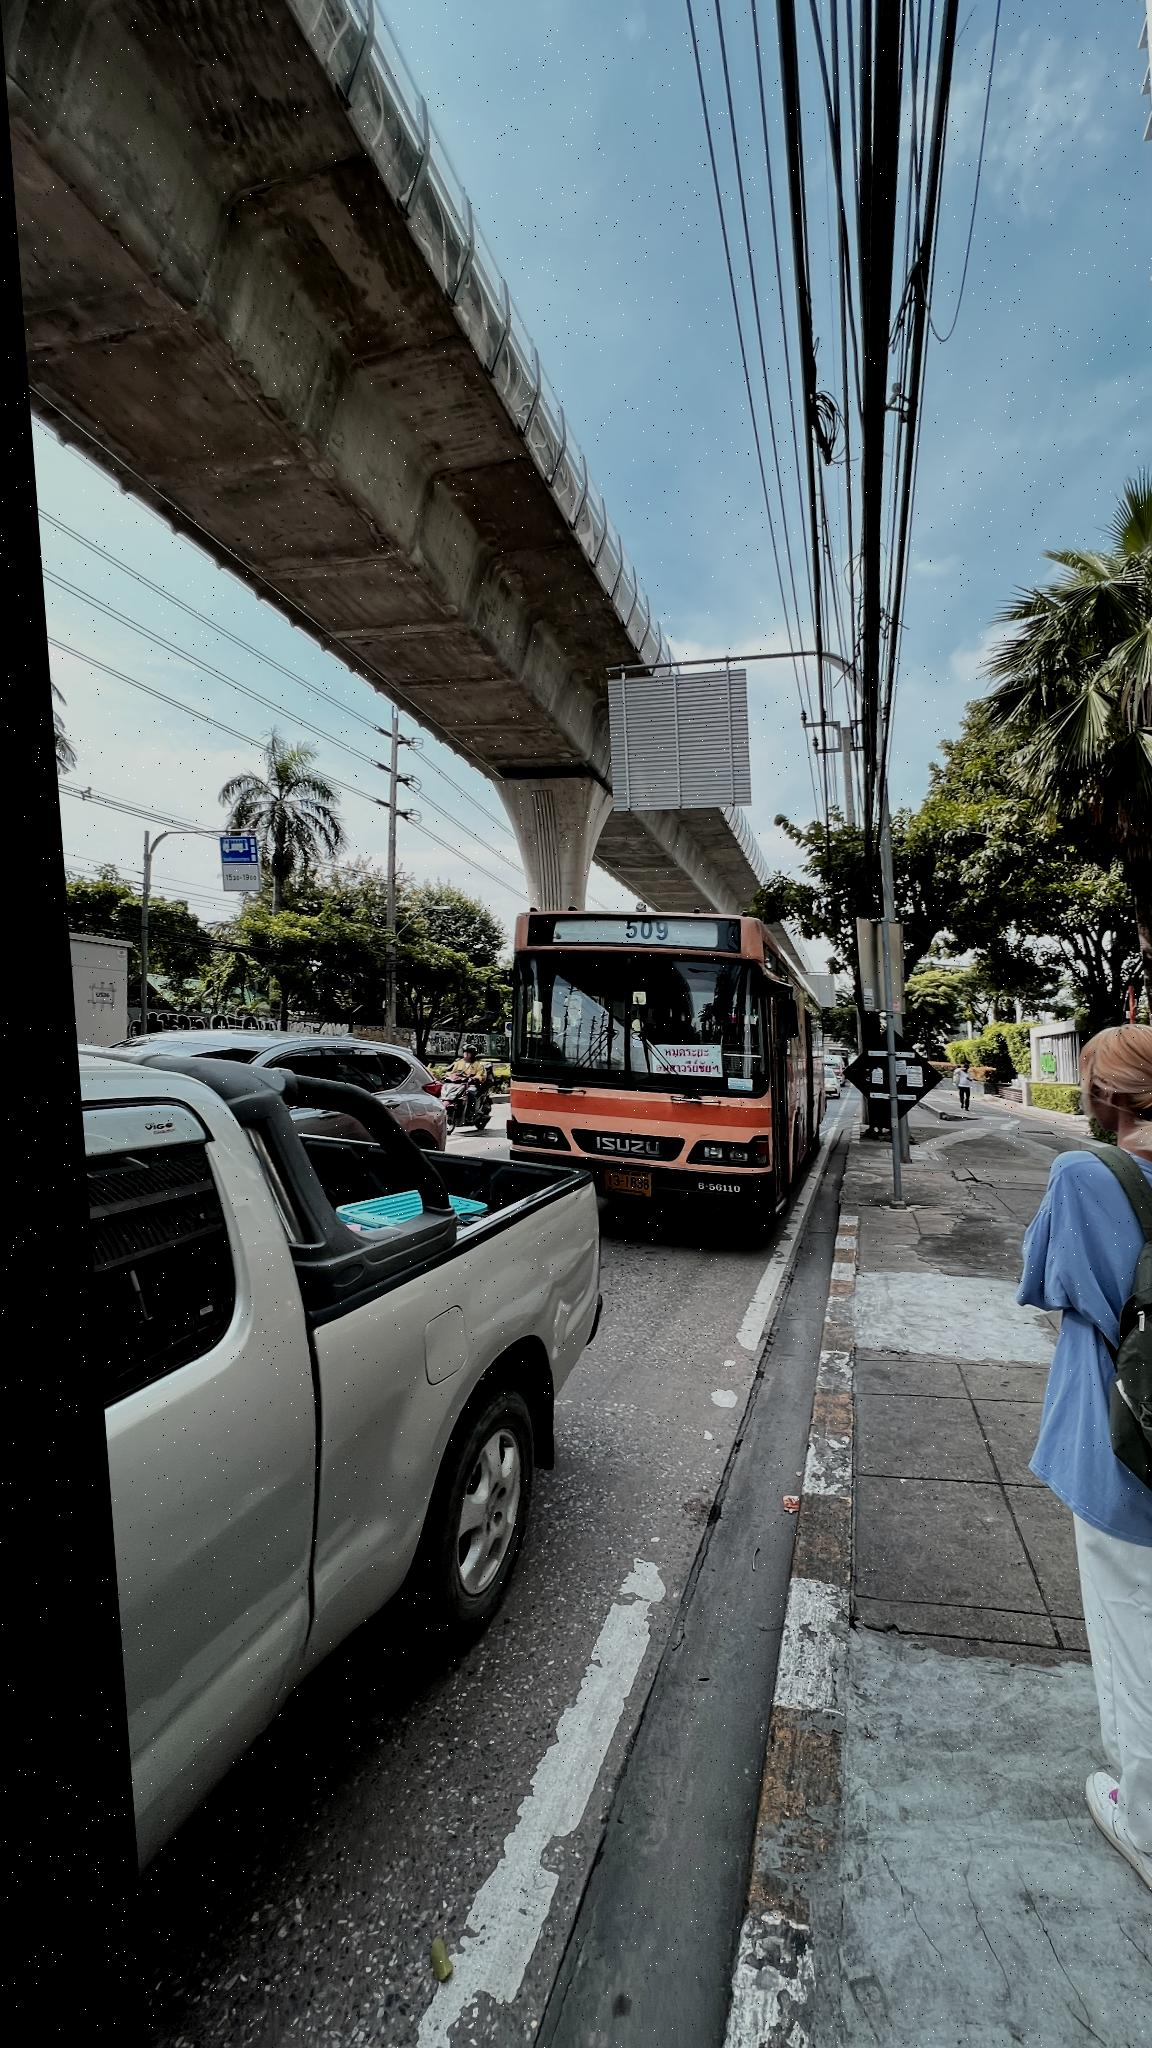BMTA-bus: (489, 913, 805, 1220)
Bus Line Number: (599, 921, 665, 942)
Bus Side Number: (672, 1176, 729, 1196)
Destination Sign: (637, 1044, 708, 1077)
